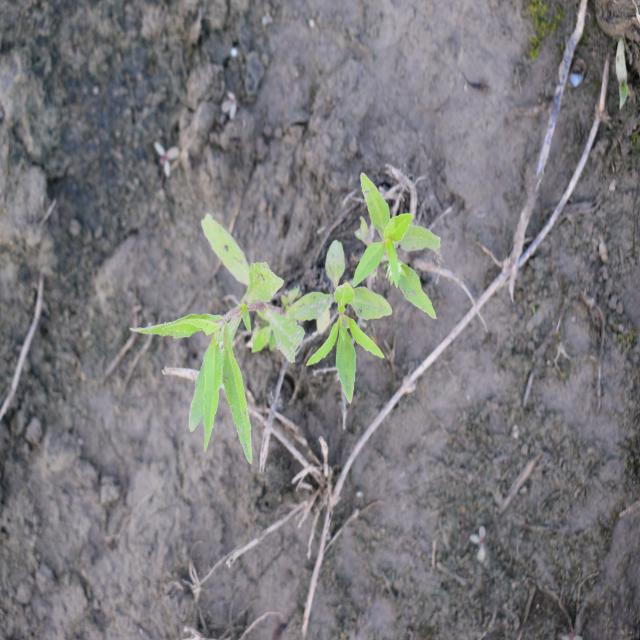Eclipta: (127, 170, 444, 468)
